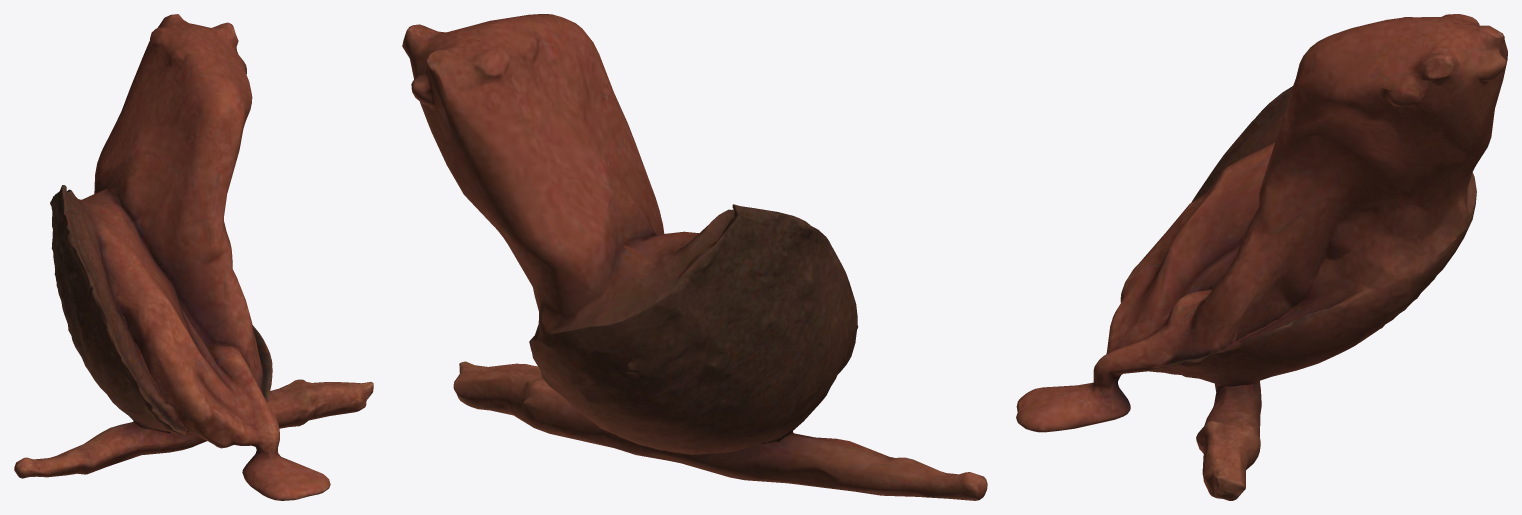
Rendered from tongue.glb.
3 views of the same model, side by side, from view 1: azimuth 30°, elevation 25°; view 2: azimuth 150°, elevation 25°; view 3: azimuth 270°, elevation 25° (orthographic). The views are drawn at different scales.
Parts seen in each view (by area): view 1: Mesh_0; view 2: Mesh_0; view 3: Mesh_0.
Boxes of the visible parts, x1,y1,x2,y2 form: Mesh_0: [14, 14, 373, 500]; Mesh_0: [402, 14, 987, 500]; Mesh_0: [1016, 14, 1507, 500].
Size of the model in its own units: 1.9 by 1.72 by 1.79.
1 material, 1 textured.
